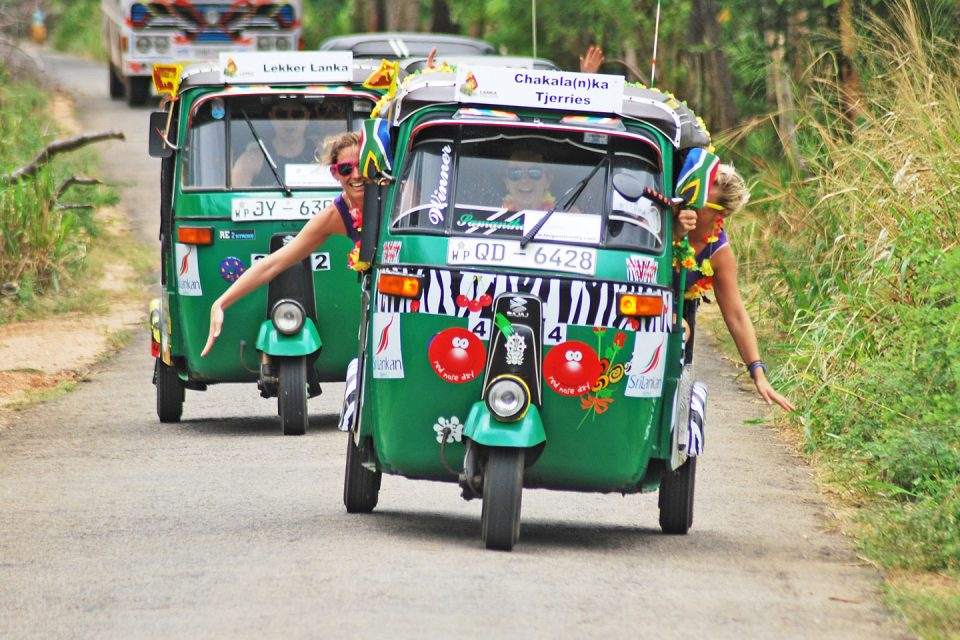tuk tuk: (346, 67, 703, 553), (149, 59, 342, 438)
